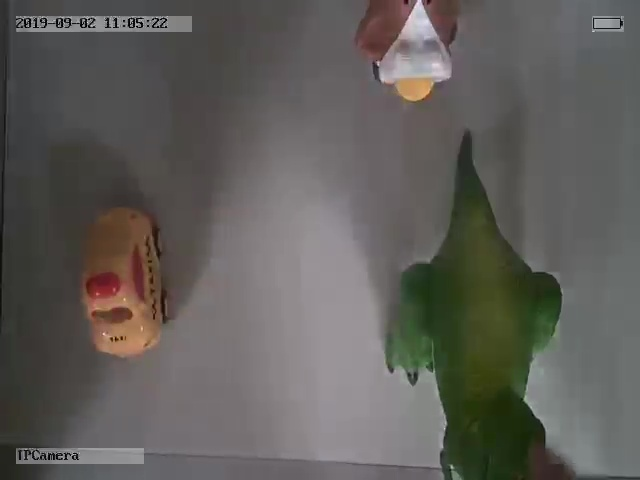car: (78, 207, 170, 359)
